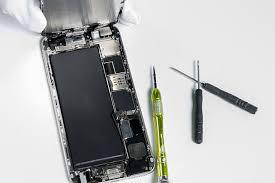Hand: (0, 0, 141, 31)
Smartphone: (40, 38, 153, 183)
